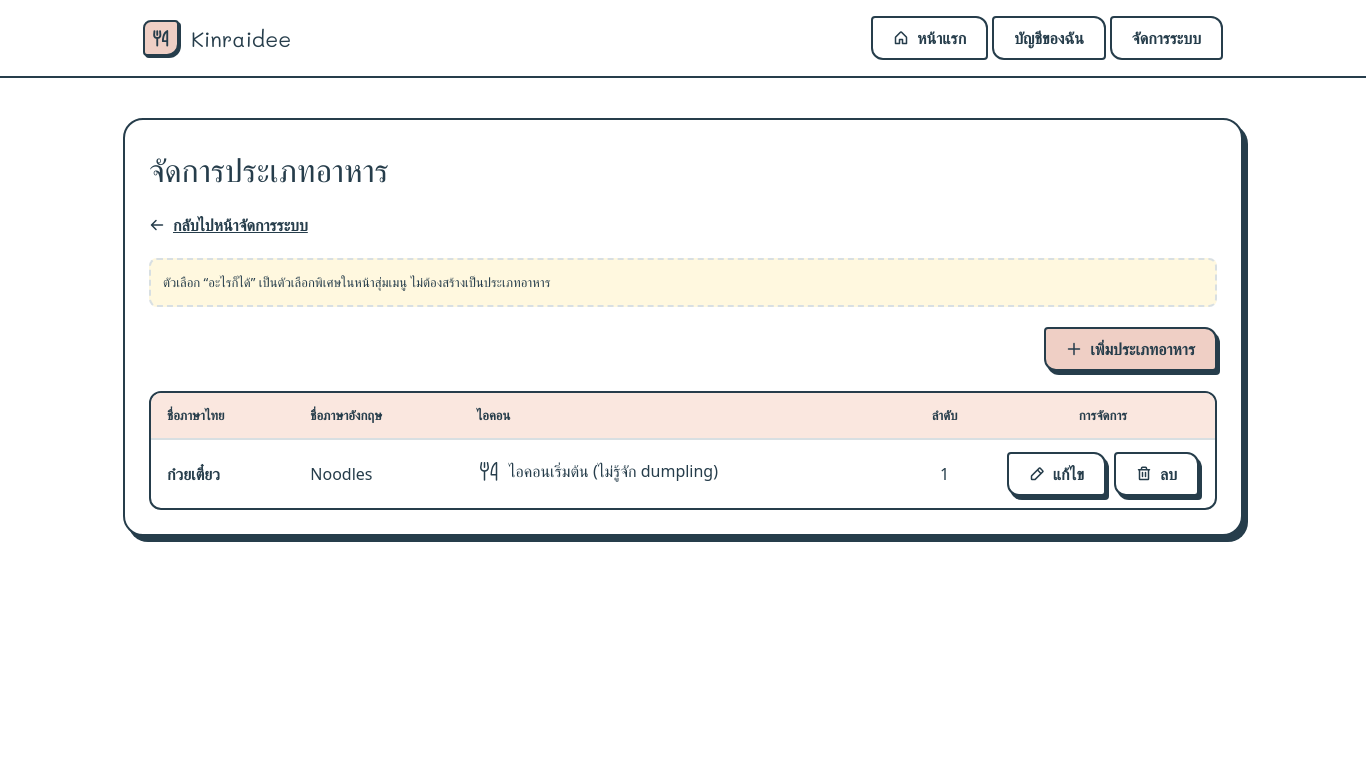
Scenario: FoodTypesPage edit › keeps an unknown stored icon key when the icon is not touched
This screenshot has width=1366, height=768.
Expected: the table named "รายการประเภทอาหาร" is shown, [151,393,1215,508]
Click the button with aria-label "แก้ไขประเภทอาหาร ก๋วยเตี๋ยว" at (1056, 474), box [1007,452,1106,496]
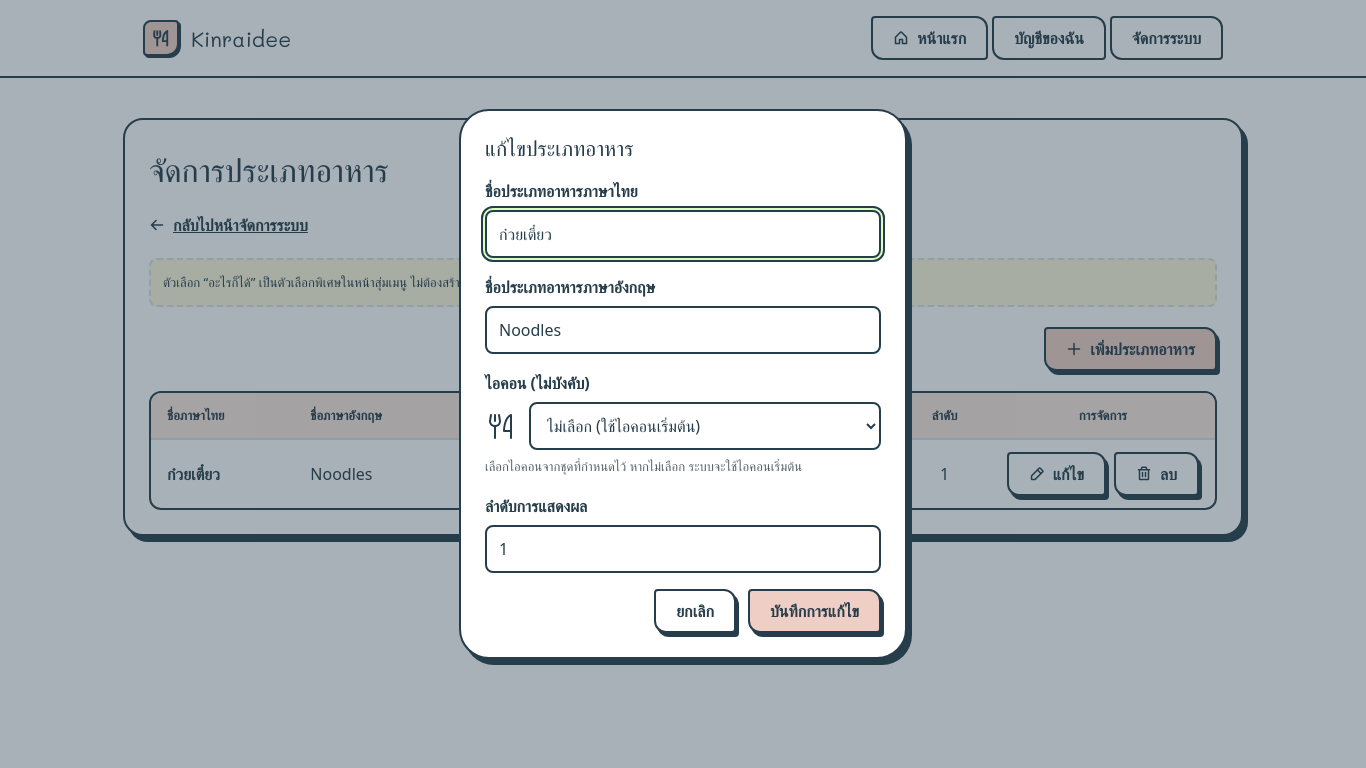
Replace the text in the field labelled "ลำดับการแสดงผล" with "2" at (683, 549), box [485,525,881,573]
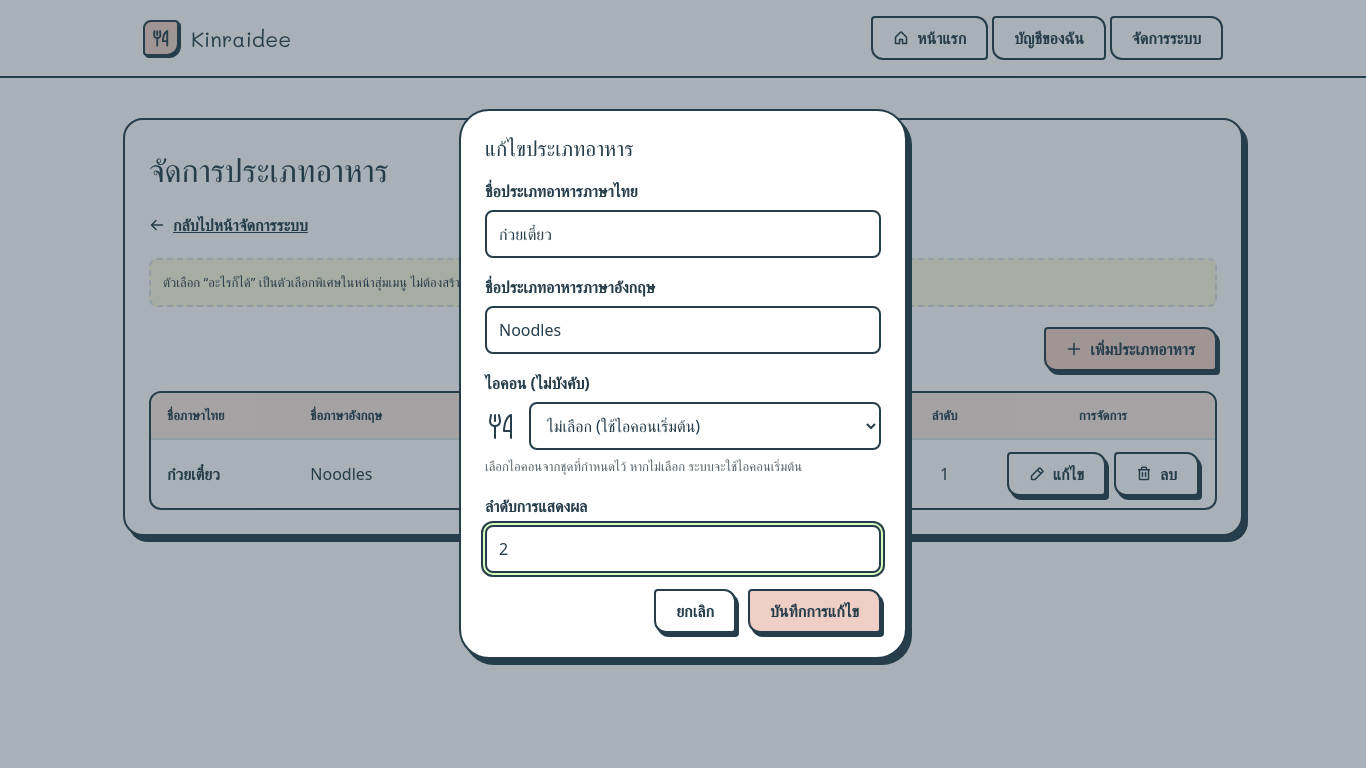
Click the button "บันทึกการแก้ไข" at (814, 611), box [748,589,881,633]
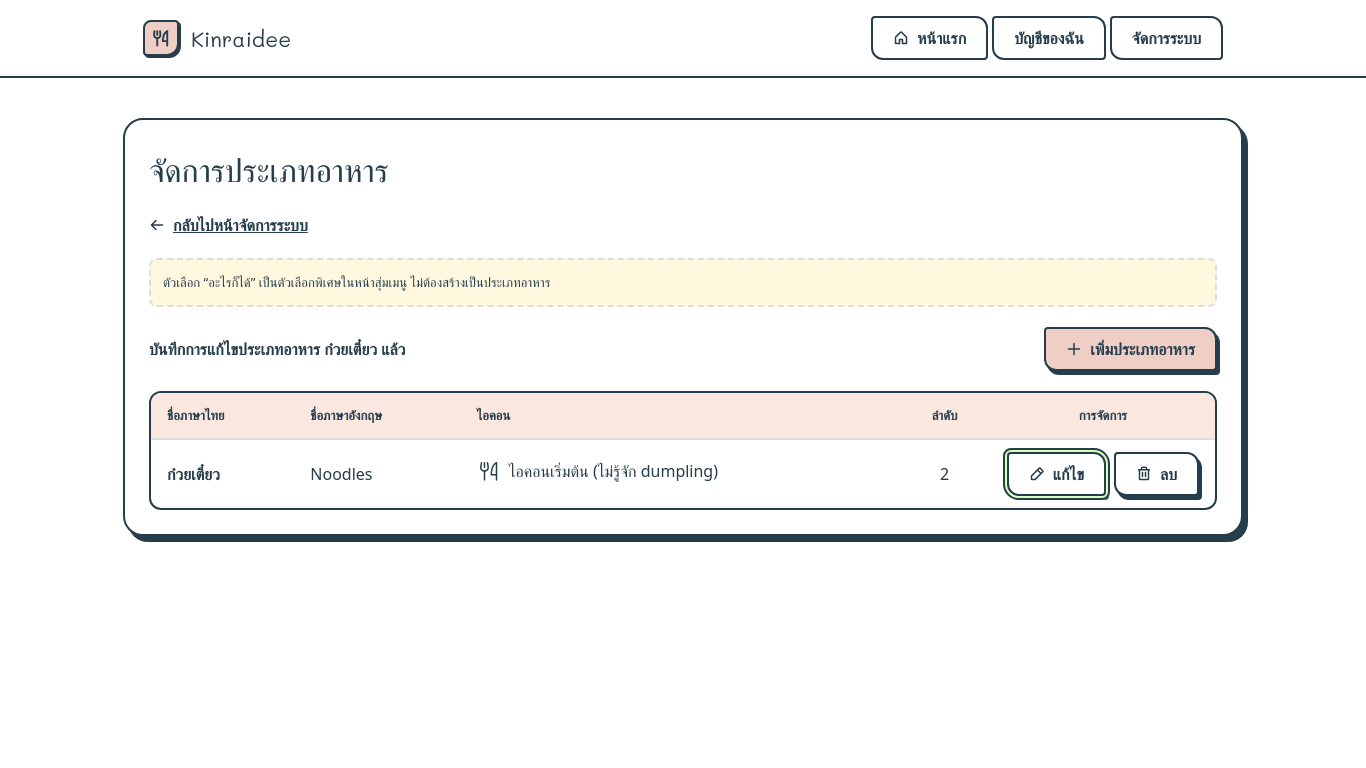
Now the text "บันทึกการแก้ไขประเภทอาหาร ก๋วยเตี๋ยว แล้ว" is shown, box [149,336,405,362]
